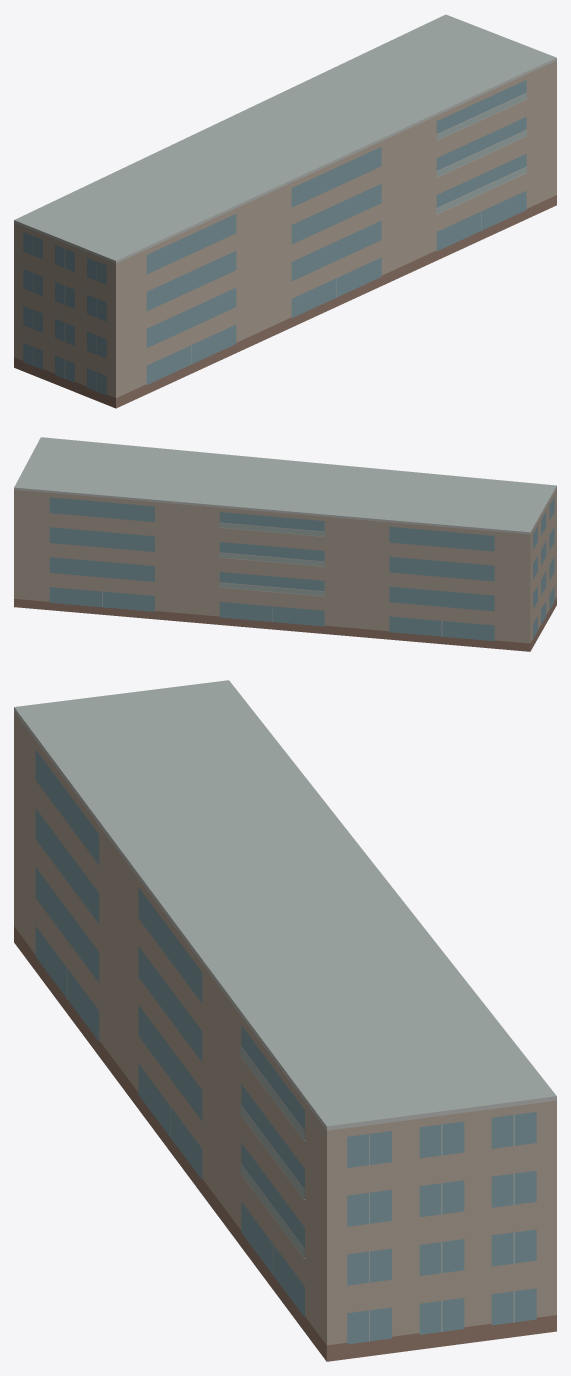
The model's file is survey-upis-32635083.glb.
The picture shows the model from 3 angles, top to bottom: view 1: azimuth 30°, elevation 25°; view 2: azimuth 150°, elevation 25°; view 3: azimuth 270°, elevation 25°; orthographic projection. The views are drawn at different scales.
Visible parts, largest first — view 1: survey-upis-32635083.tmp; view 2: survey-upis-32635083.tmp; view 3: survey-upis-32635083.tmp.
Part boxes in pixels (x1,y1,x2,y2): survey-upis-32635083.tmp: [14, 14, 556, 408]; survey-upis-32635083.tmp: [14, 437, 556, 651]; survey-upis-32635083.tmp: [14, 680, 556, 1361].
Bounding box in the file's own units: 53.3 × 13.1 × 27.4.
